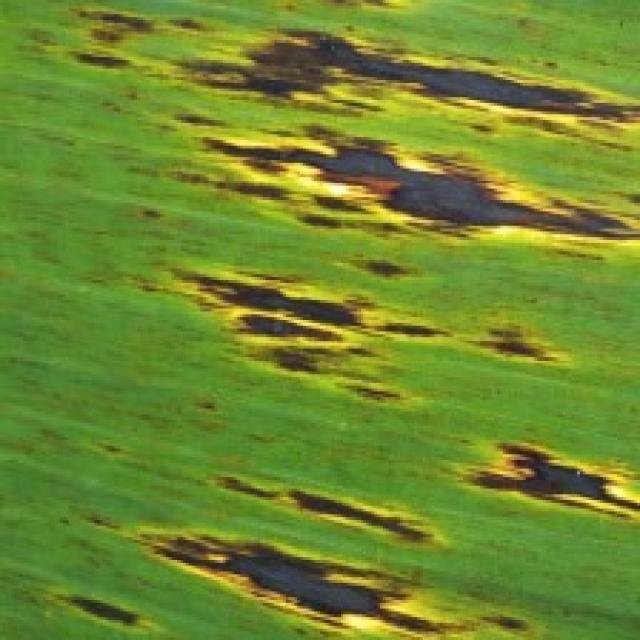Early_leaf_spot: (145, 117, 640, 260), (111, 246, 583, 392), (137, 0, 640, 137), (96, 513, 545, 640), (174, 450, 460, 549), (434, 409, 640, 517), (56, 0, 157, 85), (39, 562, 150, 631)
